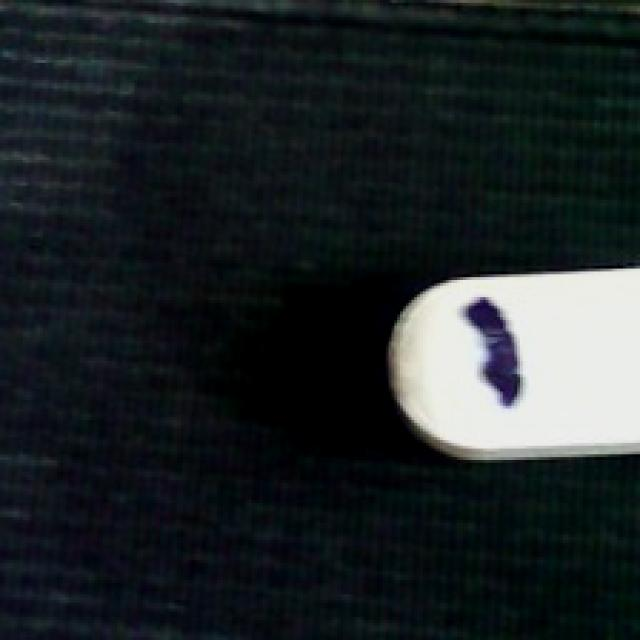defected: (380, 260, 637, 460)
